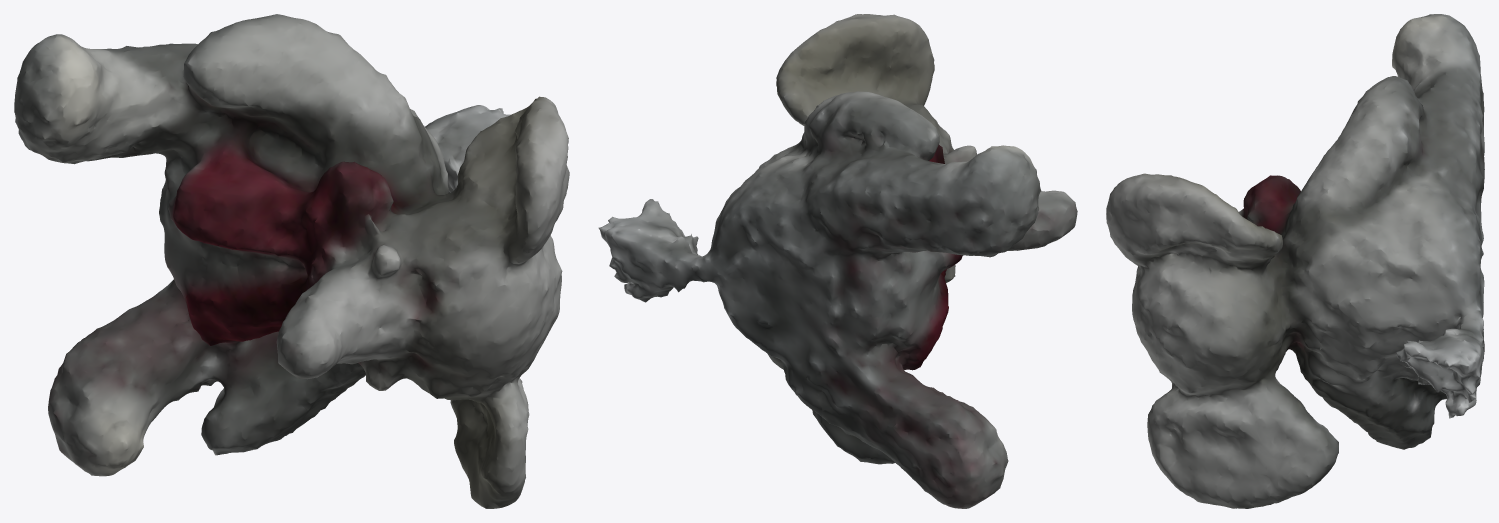
The model's file is elephant.glb.
3 renders of one model, left to right at view 1: azimuth 30°, elevation 25°; view 2: azimuth 150°, elevation 25°; view 3: azimuth 270°, elevation 25°, orthographic. The views are drawn at different scales.
Bounding box in the file's own units: 0.9969 × 0.8355 × 0.7801.
